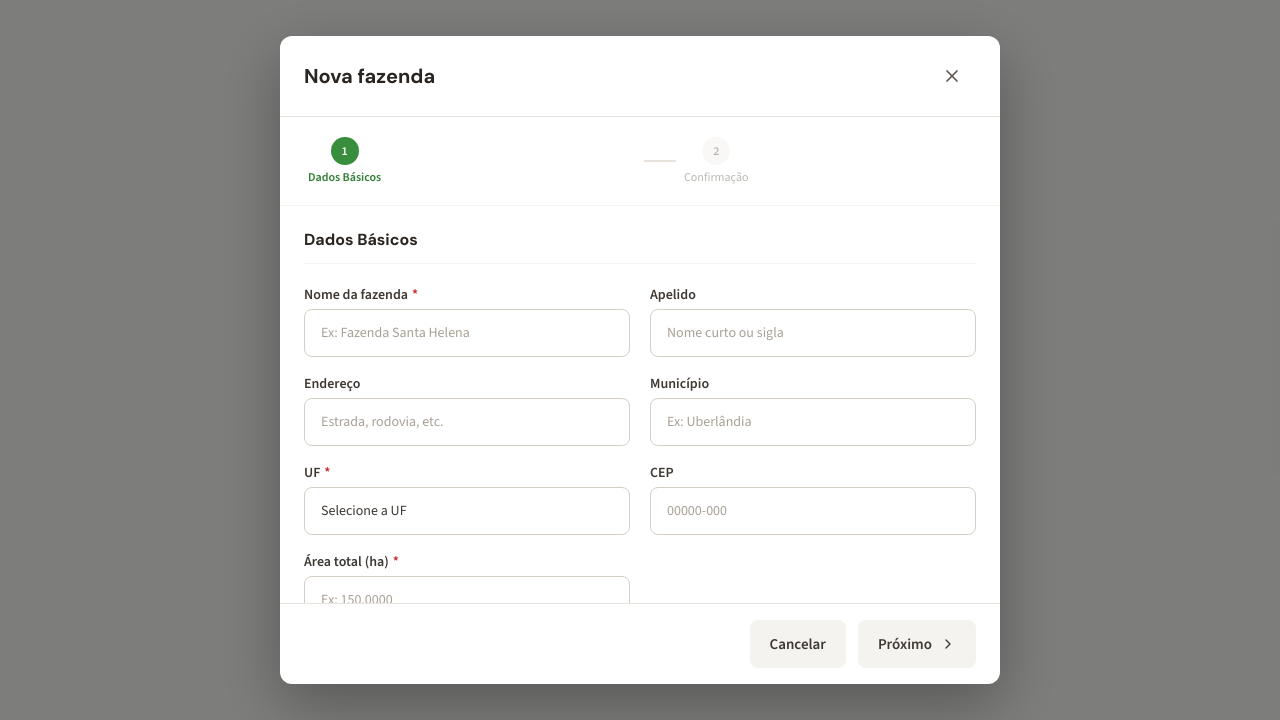
Test: CreateFarmModal › should show error message on submit failure
In the field labelled "Nome da fazenda *": coordinates (467, 333) x1=304 y1=309 x2=630 y2=357, type "Fazenda Test"
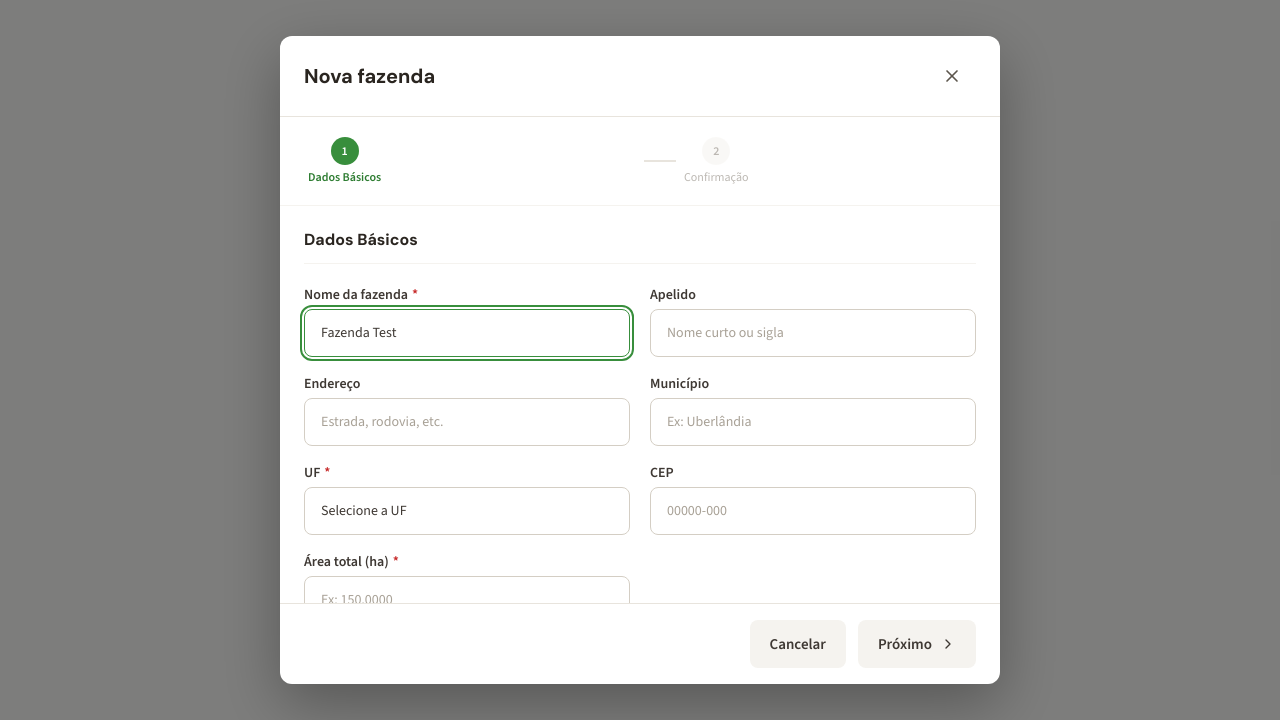
Select "MG" in the dropdown labelled "UF *": coordinates (467, 511) x1=304 y1=487 x2=630 y2=535
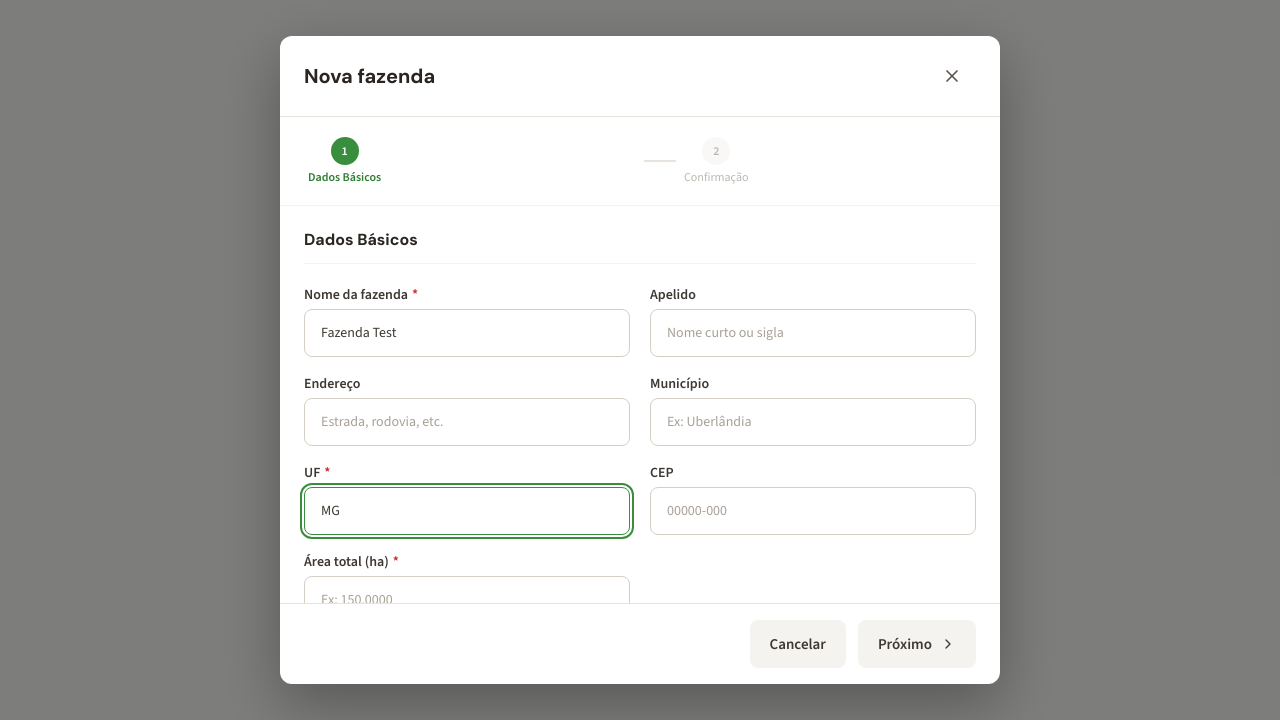
In the field labelled "Área total (ha) *": coordinates (467, 600) x1=304 y1=576 x2=630 y2=624, type "150"
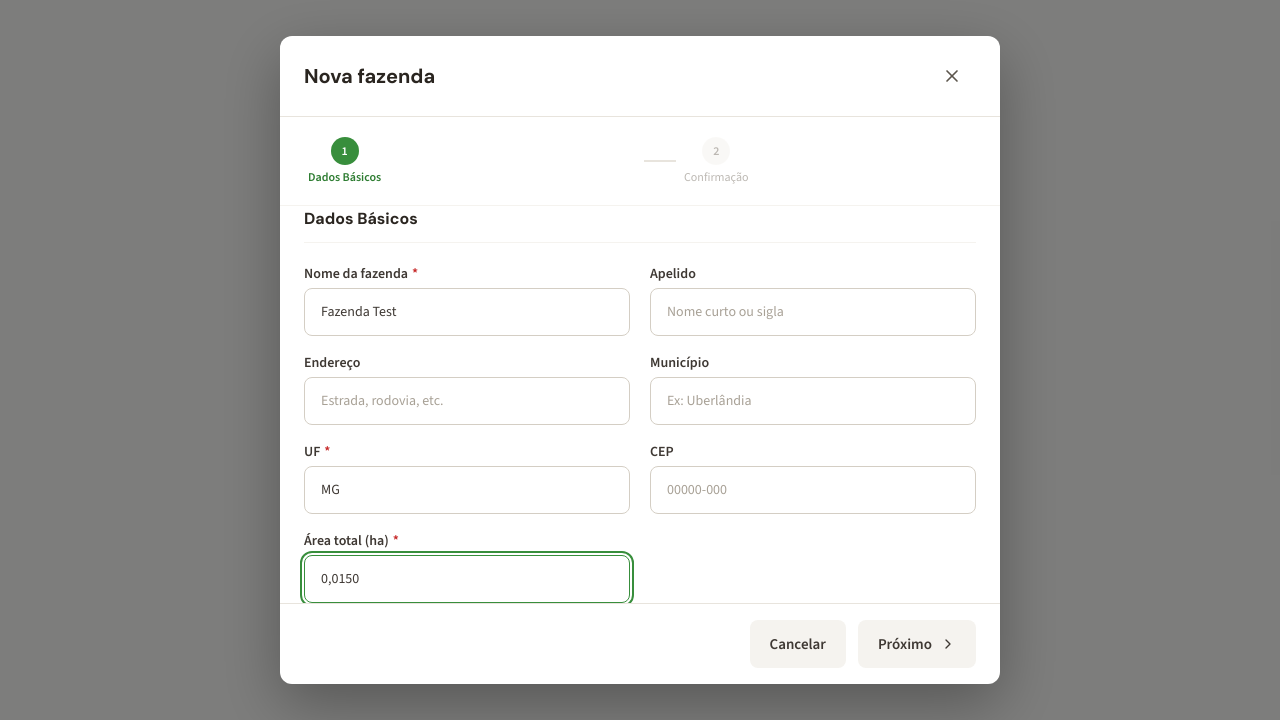
Click the button "Próximo": coordinates (917, 644) x1=858 y1=620 x2=976 y2=668
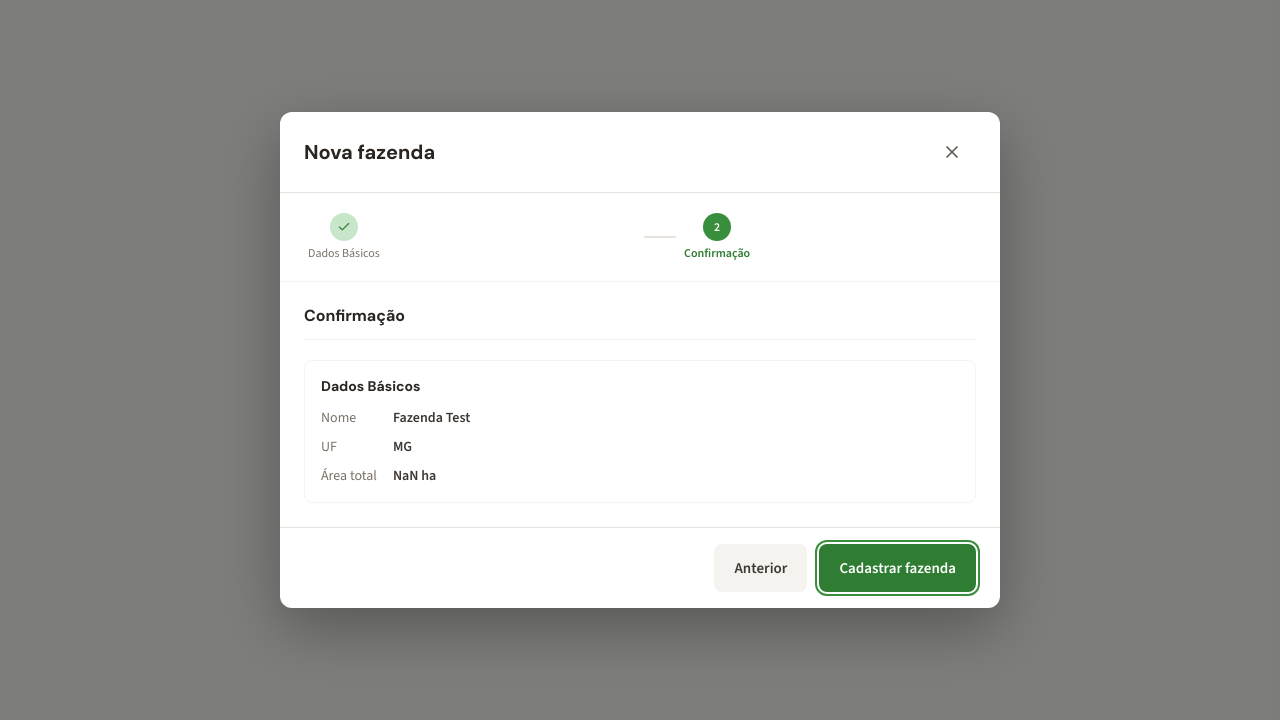
Click the button "Cadastrar fazenda": coordinates (898, 568) x1=819 y1=544 x2=976 y2=592
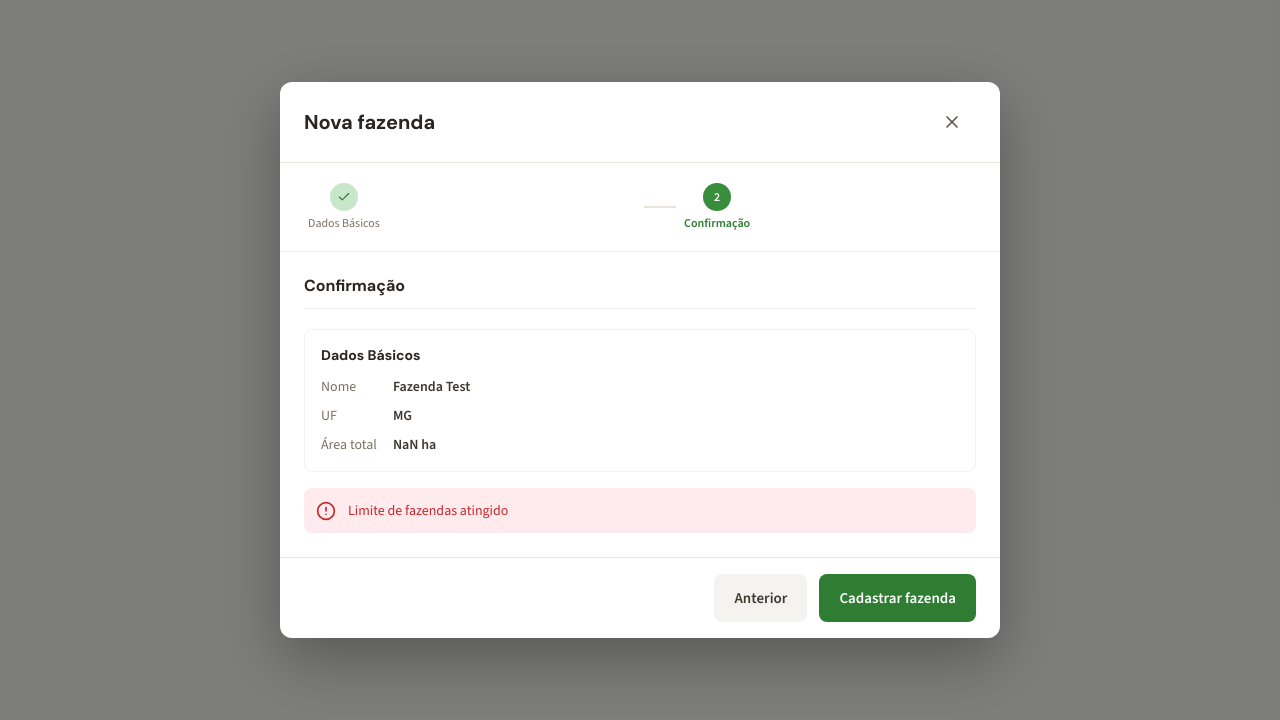
Expected: the text "Limite de fazendas atingido" is shown, x1=304 y1=488 x2=976 y2=534
